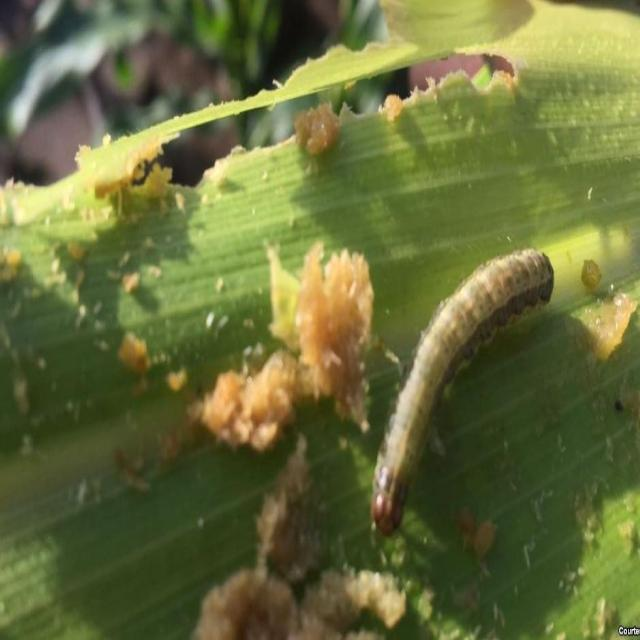pest: (377, 251, 547, 520)
